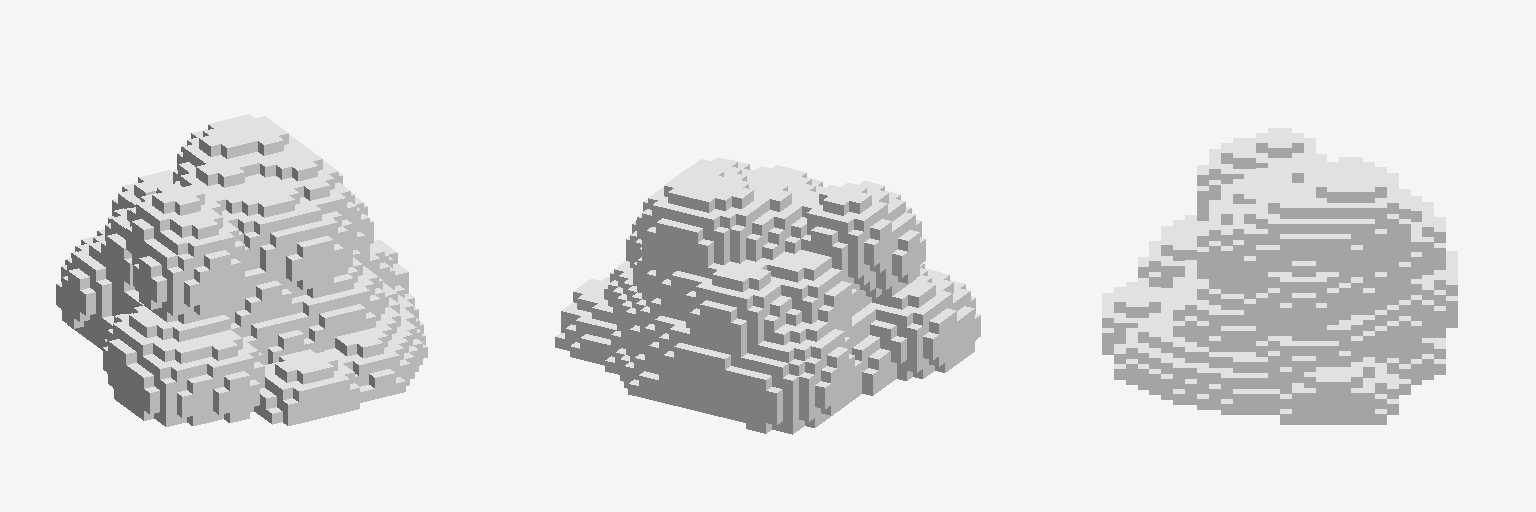
File: rock-big-1.obj
3 views of the same model, side by side, from view 1: azimuth 30°, elevation 25°; view 2: azimuth 150°, elevation 25°; view 3: azimuth 270°, elevation 25° (orthographic).
Visible parts, largest first — view 1: object 1; view 2: object 1; view 3: object 1.
Boxes of the visible parts, <box> form: object 1: <box>56,114,427,426</box>; object 1: <box>555,157,980,434</box>; object 1: <box>1102,128,1457,424</box>.
Bounding box in the file's own units: 3.1 × 1.7 × 3.